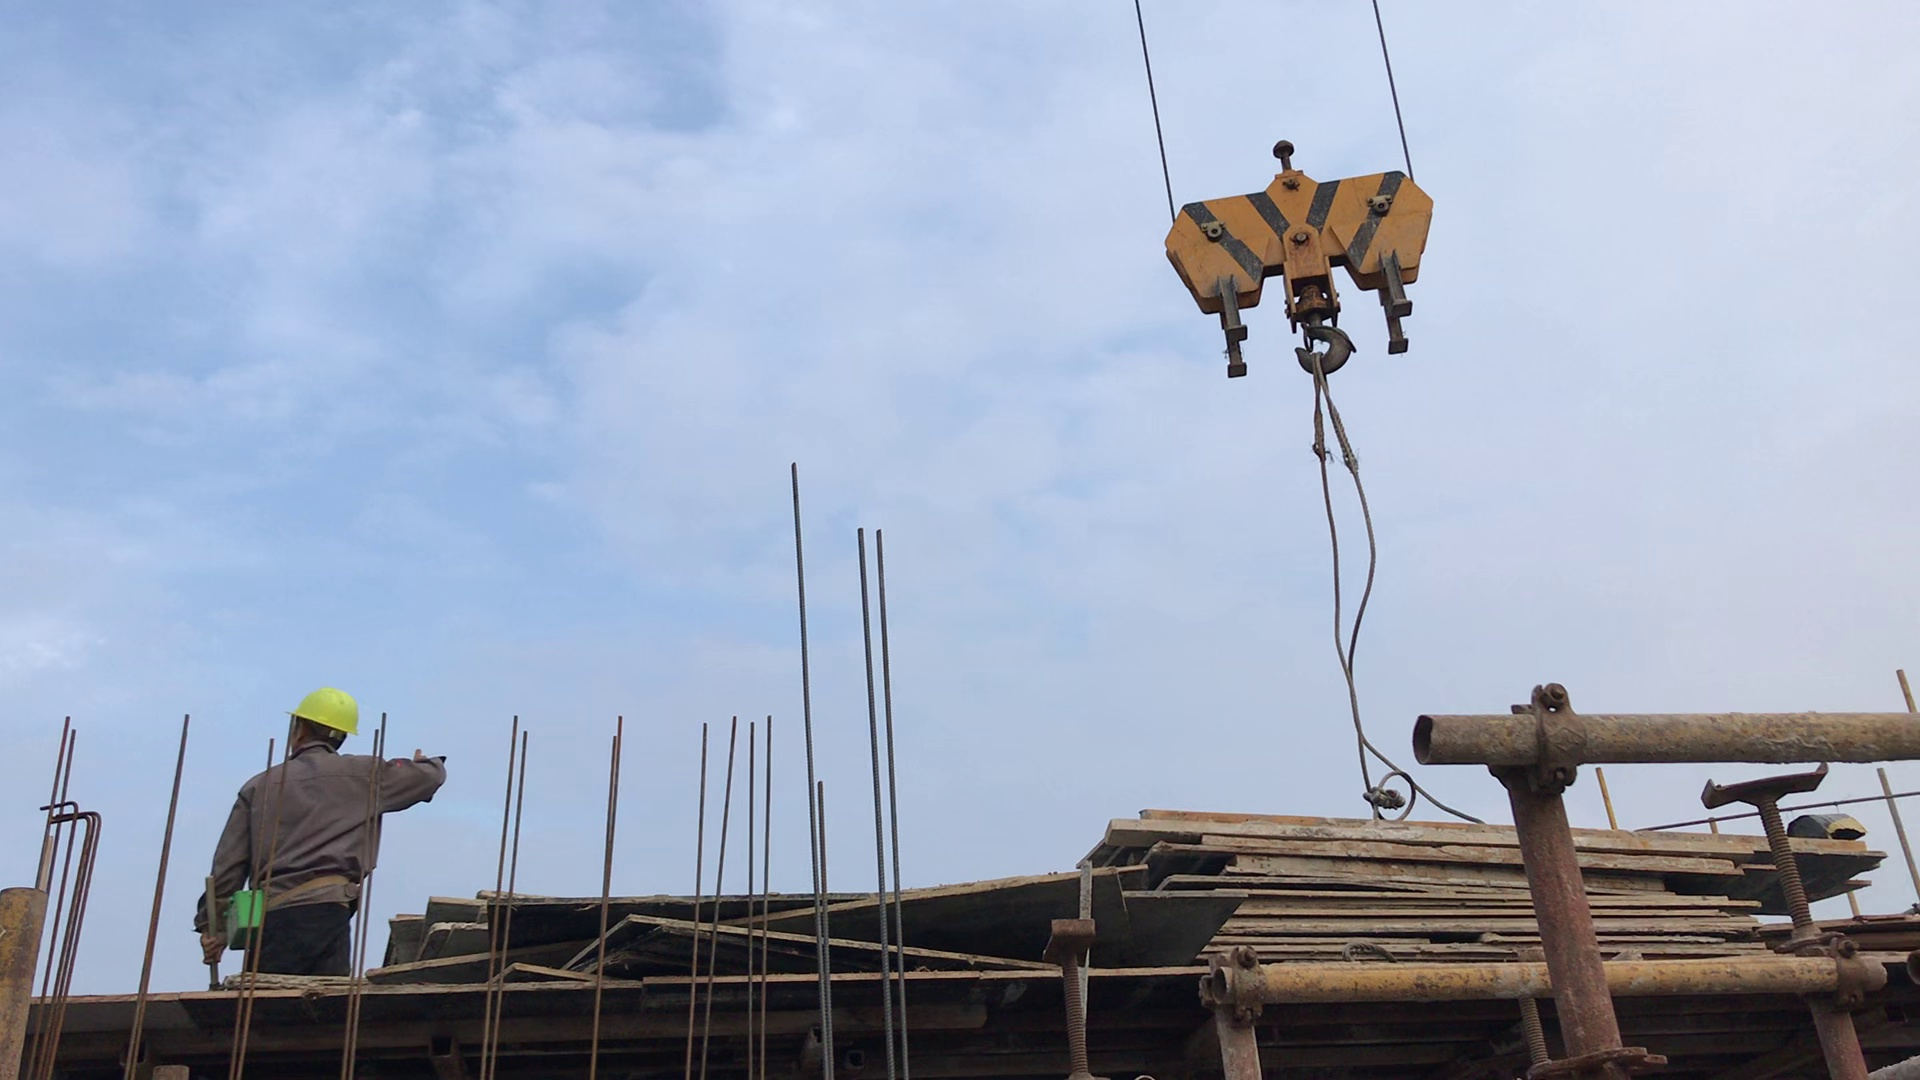board: (1113, 792, 1867, 956)
helmet: (278, 676, 362, 735)
hook: (1156, 134, 1455, 376)
person: (167, 674, 484, 991)
